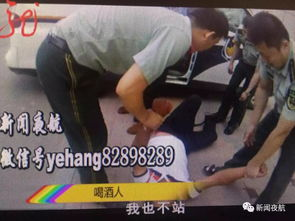fall: (120, 82, 234, 213)
